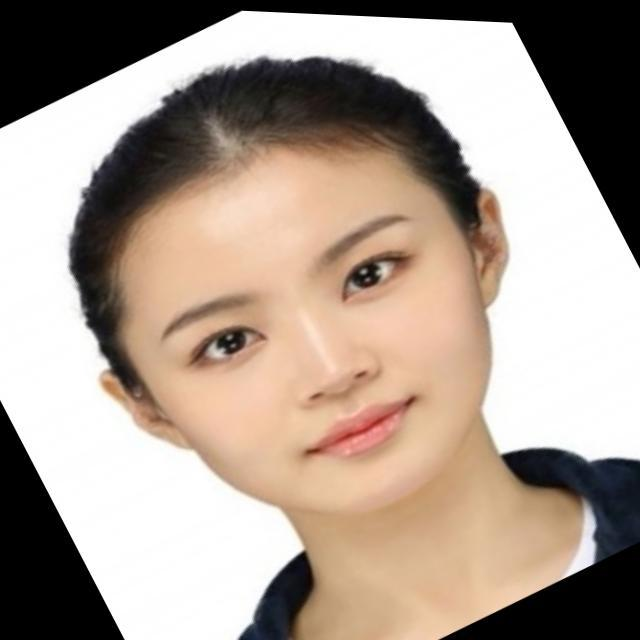Nonhelmet: (59, 24, 531, 544)
